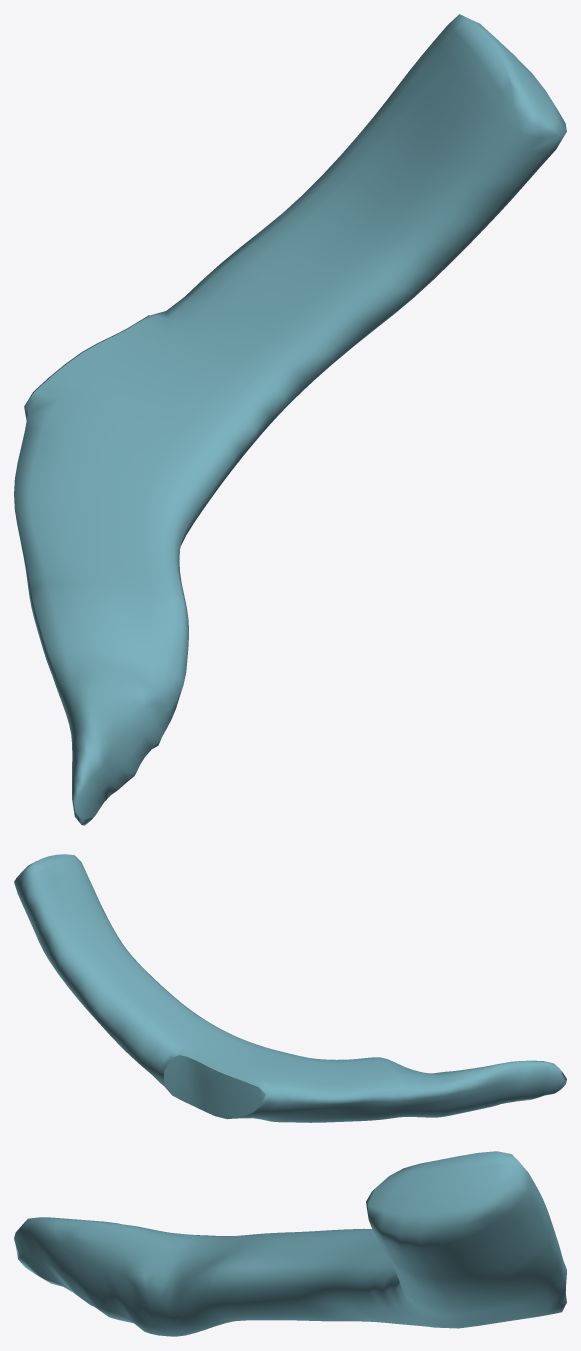
3 views of the same model, one above another, from view 1: azimuth 30°, elevation 25°; view 2: azimuth 150°, elevation 25°; view 3: azimuth 270°, elevation 25° (orthographic). The views are drawn at different scales.
Parts seen in each view (by area): view 1: 左侧第八肋软骨; view 2: 左侧第八肋软骨; view 3: 左侧第八肋软骨.
Boxes of the visible parts, x1,y1,x2,y2 form: 左侧第八肋软骨: (14, 14, 566, 825); 左侧第八肋软骨: (14, 854, 566, 1122); 左侧第八肋软骨: (14, 1151, 566, 1336).
Bounding box in the file's own units: 0.1201 × 0.0739 × 0.0918.
